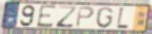9: (20, 4, 36, 28)
E: (36, 4, 58, 29)
G: (95, 6, 115, 29)
L: (115, 6, 131, 31)
P: (75, 6, 96, 29)
Z: (55, 6, 78, 29)
